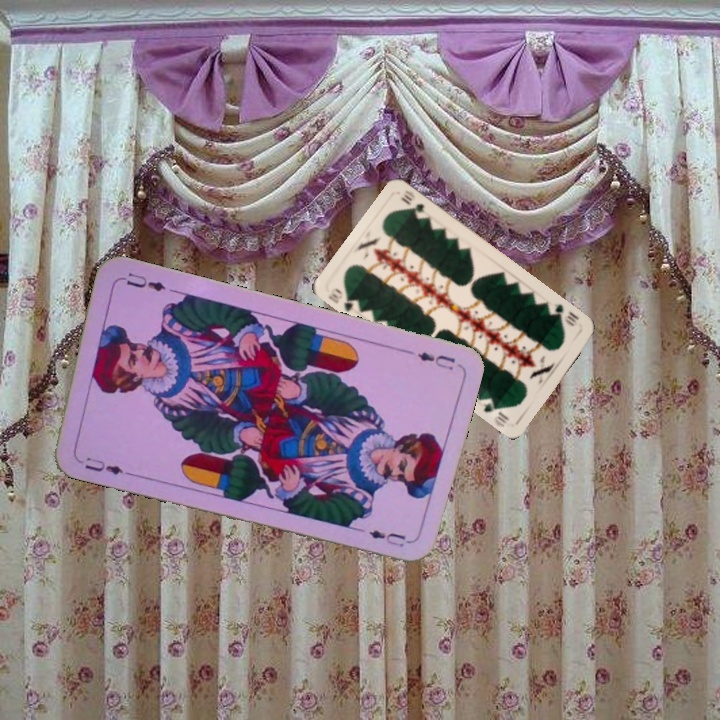EU: (72, 453, 131, 478), (413, 348, 458, 373)
G10: (324, 284, 362, 315), (545, 299, 582, 329)
